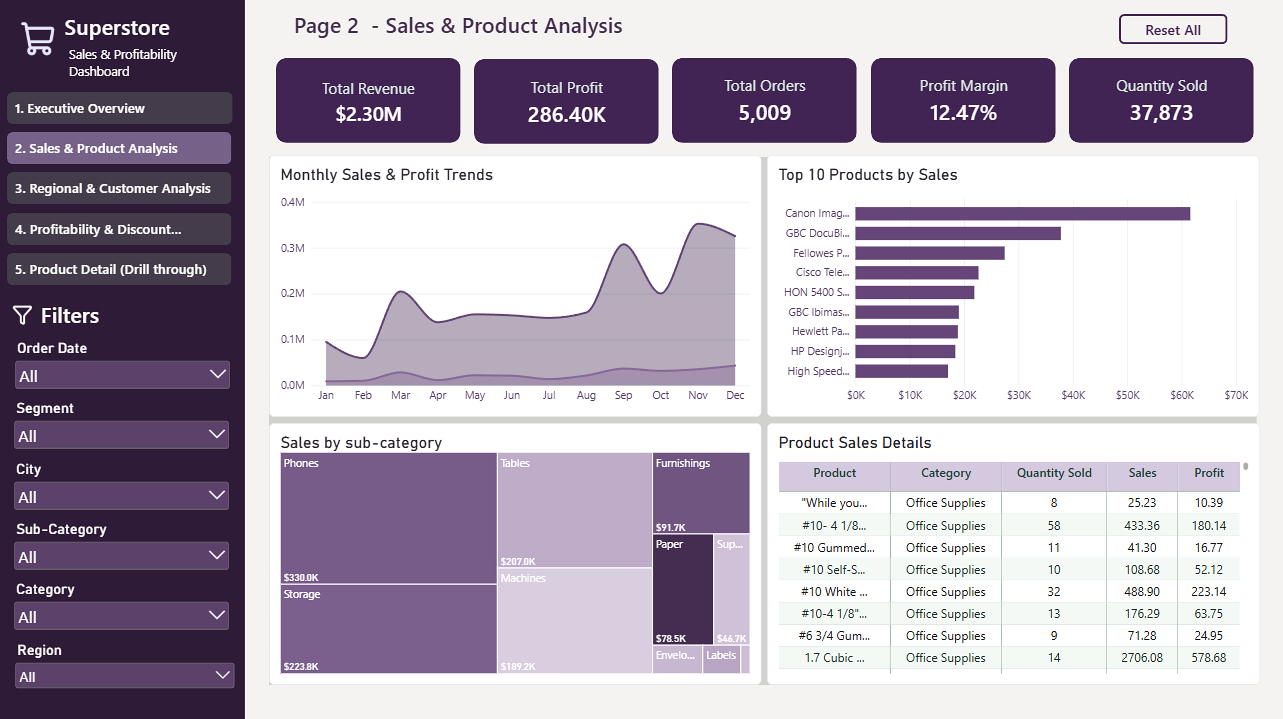

This screenshot's page, from the dashboard's own definition file:
{"tool":"powerbi","page":{"name":"Sales & Product ","canvas":[1920,1080],"ordinal":1},"visuals":[{"type":"shape","box":[0,0,367.1,1080],"z":0,"group":"g1"},{"type":"group","id":"g1","title":"Group 6","box":[0,0,367.1,1080],"z":0,"group":"g13"},{"type":"textbox","box":[77.1,20,209.6,48.3],"z":0,"group":"g6"},{"type":"shape","box":[413.9,87.5,275.5,126.6],"z":0,"group":"g7"},{"type":"shape","box":[1005.6,87.5,275.7,126.6],"z":0,"group":"g9"},{"type":"shape","box":[1301.6,87.5,275.7,126.6],"z":0,"group":"g11"},{"type":"shape","box":[1597.6,87.5,275.7,126.6],"z":0,"group":"g12"},{"type":"shape","box":[709.6,88.8,275.7,126.6],"z":0,"group":"g8"},{"type":"actionButton","box":[13.1,140,337,48],"z":0,"group":"g5"},{"type":"shape","box":[402.8,236.2,1474,788],"z":0,"group":"g15"},{"type":"textbox","box":[43,450,125.4,46.7],"z":0,"group":"g4"},{"type":"group","id":"g2","title":"Group 1","box":[18,510,338.4,537.9],"z":0,"group":"g3"},{"type":"slicer","fields":{"Values":["Sample - Superstore.Order Date"]},"box":[19.8,510,330.4,87],"z":0,"group":"g2"},{"type":"group","id":"g3","title":"Group 5","box":[4.9,20,351.5,1027.9],"z":1000,"group":"g1"},{"type":"image","box":[30,32,55,55],"z":1000,"group":"g13"},{"type":"textbox","box":[105.6,70,221.6,61.4],"z":1000,"group":"g6"},{"type":"cardVisual","fields":{"Data":["Sum(Sample - Superstore.Sales)"]},"box":[414.1,108.9,277,88.2],"z":1000,"group":"g7"},{"type":"cardVisual","fields":{"Data":["Count(Sample - Superstore.Order ID)"]},"box":[1044.2,111.3,200,79],"z":1000,"group":"g9"},{"type":"cardVisual","fields":{"Data":["Sample - Superstore.Profit Margin"]},"box":[1340.2,111.3,200,79],"z":1000,"group":"g11"},{"type":"cardVisual","fields":{"Data":["Sum(Sample - Superstore.Quantity)"]},"box":[1636.2,111.3,200,79],"z":1000,"group":"g12"},{"type":"cardVisual","fields":{"Data":["Sum(Sample - Superstore.Profit)"]},"box":[749,113.9,200,79],"z":1000,"group":"g8"},{"type":"lineChart","title":"Monthly Sales & Profit Trends","fields":{"Category":["Sample - Superstore.Month Short"],"Y":["Sum(Sample - Superstore.Sales)","Sum(Sample - Superstore.Profit)"]},"box":[402.8,233.3,735,391],"z":1000,"group":"g14"},{"type":"actionButton","box":[12.8,320,335,48],"z":1000,"group":"g5"},{"type":"image","box":[4.9,456.9,60.7,31.5],"z":1000,"group":"g4"},{"type":"slicer","fields":{"Values":["Sample - Superstore.Category"]},"box":[18.4,870,330.4,87],"z":1000,"group":"g2"},{"type":"group","id":"g4","title":"Group 3","box":[4.9,140,345.2,356.7],"z":2000,"group":"g3"},{"type":"group","id":"g5","title":"Group 2","box":[12.8,140,337.2,288],"z":2000,"group":"g4"},{"type":"clusteredBarChart","title":"Top 10 Products by Sales","fields":{"Category":["Sample - Superstore.Short Product Name"],"Y":["Sum(Sample - Superstore.Sales)"]},"box":[1146.8,233.3,735,391],"z":2000,"group":"g14"},{"type":"actionButton","box":[12.8,380,335,48],"z":2000,"group":"g5"},{"type":"slicer","fields":{"Values":["Sample - Superstore.Sub-Category"]},"box":[18.4,780,330.4,87],"z":2000,"group":"g2"},{"type":"group","id":"g6","title":"Group 4","box":[77.1,20,250.1,111.4],"z":3000,"group":"g3"},{"type":"group","id":"g7","title":"Group 7","box":[413.9,87.5,277.1,126.6],"z":3000,"group":"g10"},{"type":"actionButton","box":[12.8,260,335,48],"z":3000,"group":"g5"},{"type":"treemap","title":"Sales by sub-category","fields":{"Group":["Sample - Superstore.Sub-Category"],"Values":["Sum(Sample - Superstore.Sales)"]},"box":[402.8,633.3,735,391],"z":3000,"group":"g14"},{"type":"slicer","fields":{"Values":["Sample - Superstore.City"]},"box":[18,690,330.4,87],"z":3000,"group":"g2"},{"type":"group","id":"g8","title":"Group 8","box":[709.6,88.8,275.7,126.6],"z":4000,"group":"g10"},{"type":"actionButton","box":[12.8,200,335,48],"z":4000,"group":"g5"},{"type":"slicer","fields":{"Values":["Sample - Superstore.Segment"]},"box":[18.3,600,330.4,87],"z":4000,"group":"g2"},{"type":"tableEx","title":"Product Sales Details ","fields":{"Values":["Sample - Superstore.Short Product Name","Sample - Superstore.Category","Sum(Sample - Superstore.Quantity)","Sum(Sample - Superstore.Sales)","Sum(Sample - Superstore.Profit)"]},"box":[1146.8,633.3,735.7,391.4],"z":4000,"group":"g14"},{"type":"textbox","box":[440.6,16.2,520.2,54.5],"z":5000},{"type":"group","id":"g9","title":"Group 9","box":[1005.6,87.5,275.7,126.6],"z":5000,"group":"g10"},{"type":"slicer","fields":{"Values":["Sample - Superstore.Region"]},"box":[19.8,960,336.5,87.9],"z":5000,"group":"g2"},{"type":"group","id":"g10","title":"Group 13","box":[413.9,87.5,1459.7,127.8],"z":6000},{"type":"group","id":"g11","title":"Group 10","box":[1301.6,87.5,275.7,126.6],"z":6000,"group":"g10"},{"type":"image","box":[20,22,55,55],"z":7000},{"type":"group","id":"g12","title":"Group 11","box":[1597.6,87.5,275.7,126.6],"z":7000,"group":"g10"},{"type":"actionButton","box":[1672.2,22.2,162,45],"z":8000},{"type":"group","id":"g13","title":"Group 12","box":[0,0,367.1,1080],"z":9000},{"type":"group","id":"g14","title":"Group 14","box":[402.8,233.3,1479.7,791.4],"z":9001,"group":"g15"},{"type":"group","id":"g15","title":"Group 15","box":[402.8,233.3,1479.2,791.7],"z":9002}]}

Visuals, with their boxes on the page's 1920x1080 design canvas (x1, y1, x2, y2). These are canvas units, not pixel positions in the 1283x719 screenshot, which may show the page scaled, cropped or inside an application window:
shape: detection(0, 0, 367, 1080)
"Group 6" group: detection(0, 0, 367, 1080)
textbox: detection(77, 20, 287, 68)
shape: detection(414, 88, 689, 214)
shape: detection(1006, 88, 1281, 214)
shape: detection(1302, 88, 1577, 214)
shape: detection(1598, 88, 1873, 214)
shape: detection(710, 89, 985, 215)
actionButton: detection(13, 140, 350, 188)
shape: detection(403, 236, 1877, 1024)
textbox: detection(43, 450, 168, 497)
"Group 1" group: detection(18, 510, 356, 1048)
slicer - Sample - Superstore.Order Date: detection(20, 510, 350, 597)
"Group 5" group: detection(5, 20, 356, 1048)
image: detection(30, 32, 85, 87)
textbox: detection(106, 70, 327, 131)
cardVisual - Sum(Sample - Superstore.Sales): detection(414, 109, 691, 197)
cardVisual - Count(Sample - Superstore.Order ID): detection(1044, 111, 1244, 190)
cardVisual - Sample - Superstore.Profit Margin: detection(1340, 111, 1540, 190)
cardVisual - Sum(Sample - Superstore.Quantity): detection(1636, 111, 1836, 190)
cardVisual - Sum(Sample - Superstore.Profit): detection(749, 114, 949, 193)
"Monthly Sales & Profit Trends" lineChart: detection(403, 233, 1138, 624)
actionButton: detection(13, 320, 348, 368)
image: detection(5, 457, 66, 488)
slicer - Sample - Superstore.Category: detection(18, 870, 349, 957)
"Group 3" group: detection(5, 140, 350, 497)
"Group 2" group: detection(13, 140, 350, 428)
"Top 10 Products by Sales" clusteredBarChart: detection(1147, 233, 1882, 624)
actionButton: detection(13, 380, 348, 428)
slicer - Sample - Superstore.Sub-Category: detection(18, 780, 349, 867)
"Group 4" group: detection(77, 20, 327, 131)
"Group 7" group: detection(414, 88, 691, 214)
actionButton: detection(13, 260, 348, 308)
"Sales by sub-category" treemap: detection(403, 633, 1138, 1024)
slicer - Sample - Superstore.City: detection(18, 690, 348, 777)
"Group 8" group: detection(710, 89, 985, 215)
actionButton: detection(13, 200, 348, 248)
slicer - Sample - Superstore.Segment: detection(18, 600, 349, 687)
"Product Sales Details " tableEx: detection(1147, 633, 1882, 1025)
textbox: detection(441, 16, 961, 71)
"Group 9" group: detection(1006, 88, 1281, 214)
slicer - Sample - Superstore.Region: detection(20, 960, 356, 1048)
"Group 13" group: detection(414, 88, 1874, 215)
"Group 10" group: detection(1302, 88, 1577, 214)
image: detection(20, 22, 75, 77)
"Group 11" group: detection(1598, 88, 1873, 214)
actionButton: detection(1672, 22, 1834, 67)
"Group 12" group: detection(0, 0, 367, 1080)
"Group 14" group: detection(403, 233, 1882, 1025)
"Group 15" group: detection(403, 233, 1882, 1025)
